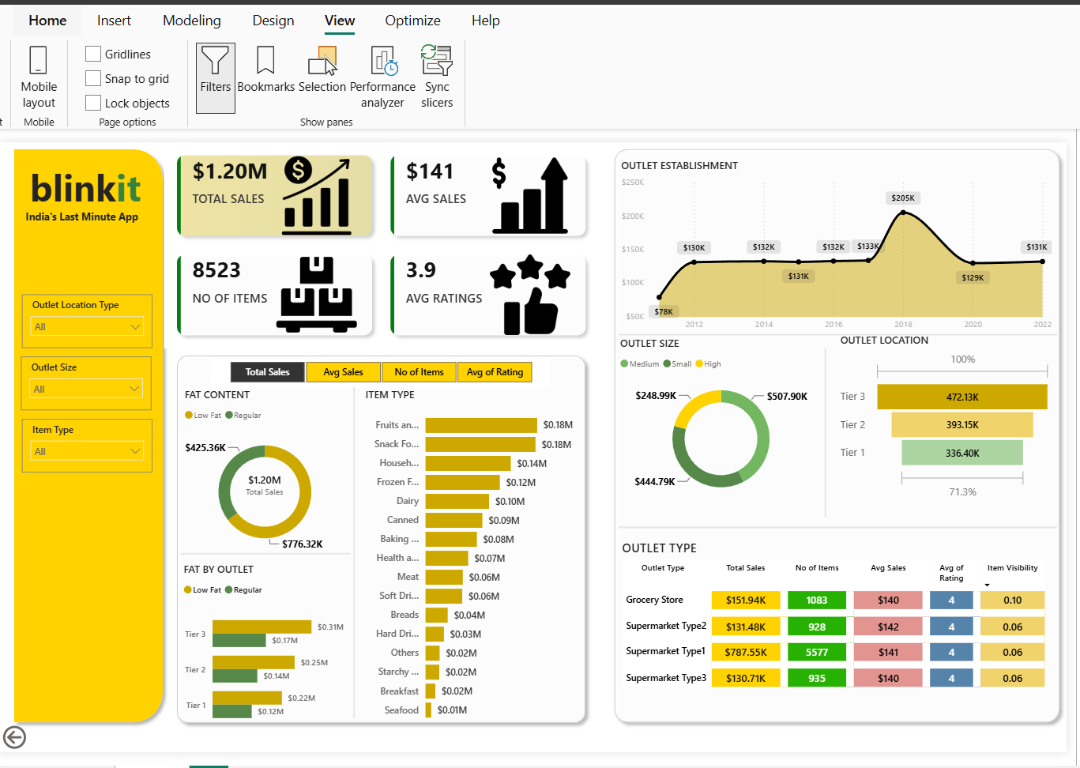

This screenshot's page, from the dashboard's own definition file:
{"tool":"powerbi","page":{"name":"Page 1","canvas":[1400,800],"ordinal":0},"visuals":[{"type":"shape","box":[10.5,0,213.1,769.9],"z":0},{"type":"textbox","box":[30,21,166.6,78],"z":1000},{"type":"textbox","box":[30,82.5,171.1,31.5],"z":2000},{"type":"cardVisual","fields":{"Data":["Sheet1.Total Sales","Sheet1.Avg Sales","Sheet1.No of Items","Sheet1.Avg of Rating"]},"box":[216.1,0,570.3,270.2],"z":3000},{"type":"shape","box":[223.6,270.2,553.8,499.8],"z":4000},{"type":"donutChart","title":"FAT CONTENT","fields":{"Category":["Sheet1.Item Fat Content"],"Y":["Sheet1.Total Sales"]},"box":[238.6,321.2,220.6,229.6],"z":5000},{"type":"slicer","fields":{"Values":["Metrics.Metrics"]},"box":[277.7,280.7,445.8,40.5],"z":6000},{"type":"cardVisual","fields":{"Data":["Sheet1.Total Sales"]},"box":[294.2,423.2,108.1,51],"z":7000},{"type":"clusteredBarChart","title":"FAT BY OUTLET","fields":{"Category":["Sheet1.Outlet Location Type"],"Series":["Sheet1.Item Fat Content"],"Y":["Sheet1.Total Sales"]},"box":[237.1,550.8,220.6,230],"z":8000},{"type":"shape","box":[238.6,534.3,222.1,12],"z":9000},{"type":"shape","box":[457.8,321.2,16.5,433.7],"z":10000},{"type":"barChart","title":"ITEM TYPE","fields":{"Category":["Sheet1.Item Type"],"Y":["Sheet1.Total Sales"]},"box":[475.8,321.2,282.2,448.8],"z":11000},{"type":"shape","box":[798.5,0,601.8,769.9],"z":12000},{"type":"lineChart","title":"OUTLET ESTABLISHMENT","fields":{"Category":["Sheet1.Outlet Establishment Year"],"Y":["Sheet1.Total Sales"]},"box":[810.5,21,574.8,235.6],"z":13000},{"type":"shape","box":[812,501.3,574.8,7.5],"z":14000},{"type":"donutChart","title":"OUTLET SIZE ","fields":{"Category":["Sheet1.Outlet Size"],"Y":["Sheet1.Total Sales"]},"box":[809,253.6,274.7,225.1],"z":15000},{"type":"shape","box":[1068.6,270.2,30,220.6],"z":16000},{"type":"funnel","title":"OUTLET LOCATION","fields":{"Category":["Sheet1.Outlet Location Type"],"Y":["Sum(Sheet1.Sales)"]},"box":[1098.6,250.6,286.7,223.6],"z":17000},{"type":"shape","box":[812,249.1,574.8,7.5],"z":18000},{"type":"pivotTable","title":"OUTLET TYPE","fields":{"Rows":["Sheet1.Outlet Type"],"Values":["Sheet1.Total Sales","Sheet1.No of Items","Sheet1.Avg Sales","Sheet1.Avg of Rating","Avg(Sheet1.Item Visibility)"]},"box":[812,520.8,571.8,234.1],"z":19000},{"type":"actionButton","box":[0,760.1,100.5,40.2],"z":20000},{"type":"slicer","fields":{"Values":["Sheet1.Outlet Location Type"]},"box":[30,199.6,171.1,70.5],"z":21000},{"type":"slicer","fields":{"Values":["Sheet1.Outlet Size"]},"box":[28.5,280.7,171.1,70.5],"z":22000},{"type":"slicer","fields":{"Values":["Sheet1.Item Type"]},"box":[30,363.2,171.1,70.5],"z":23000}]}

Visuals, with their boxes on the page's 1400x800 design canvas (x1, y1, x2, y2). These are canvas units, not pixel positions in the 1080x768 screenshot, which may show the page scaled, cropped or inside an application window:
shape: region(10, 0, 224, 770)
textbox: region(30, 21, 197, 99)
textbox: region(30, 82, 201, 114)
cardVisual - Sheet1.Total Sales x Sheet1.Avg Sales: region(216, 0, 786, 270)
shape: region(224, 270, 777, 770)
"FAT CONTENT" donutChart: region(239, 321, 459, 551)
slicer - Metrics.Metrics: region(278, 281, 724, 321)
cardVisual - Sheet1.Total Sales: region(294, 423, 402, 474)
"FAT BY OUTLET" clusteredBarChart: region(237, 551, 458, 781)
shape: region(239, 534, 461, 546)
shape: region(458, 321, 474, 755)
"ITEM TYPE" barChart: region(476, 321, 758, 770)
shape: region(798, 0, 1400, 770)
"OUTLET ESTABLISHMENT" lineChart: region(810, 21, 1385, 257)
shape: region(812, 501, 1387, 509)
"OUTLET SIZE " donutChart: region(809, 254, 1084, 479)
shape: region(1069, 270, 1099, 491)
"OUTLET LOCATION" funnel: region(1099, 251, 1385, 474)
shape: region(812, 249, 1387, 257)
"OUTLET TYPE" pivotTable: region(812, 521, 1384, 755)
actionButton: region(0, 760, 100, 800)
slicer - Sheet1.Outlet Location Type: region(30, 200, 201, 270)
slicer - Sheet1.Outlet Size: region(28, 281, 200, 351)
slicer - Sheet1.Item Type: region(30, 363, 201, 434)
